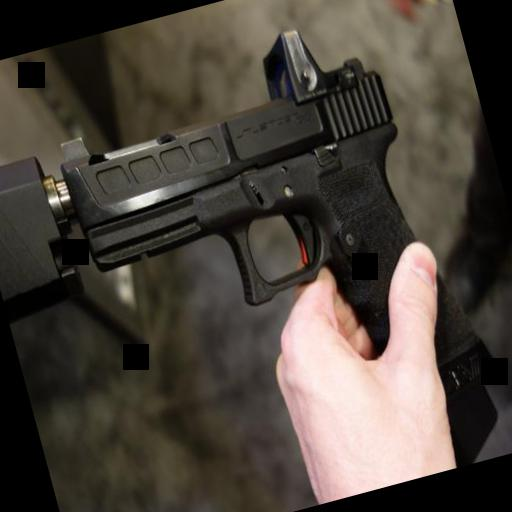Handgun: (31, 1, 512, 512)
